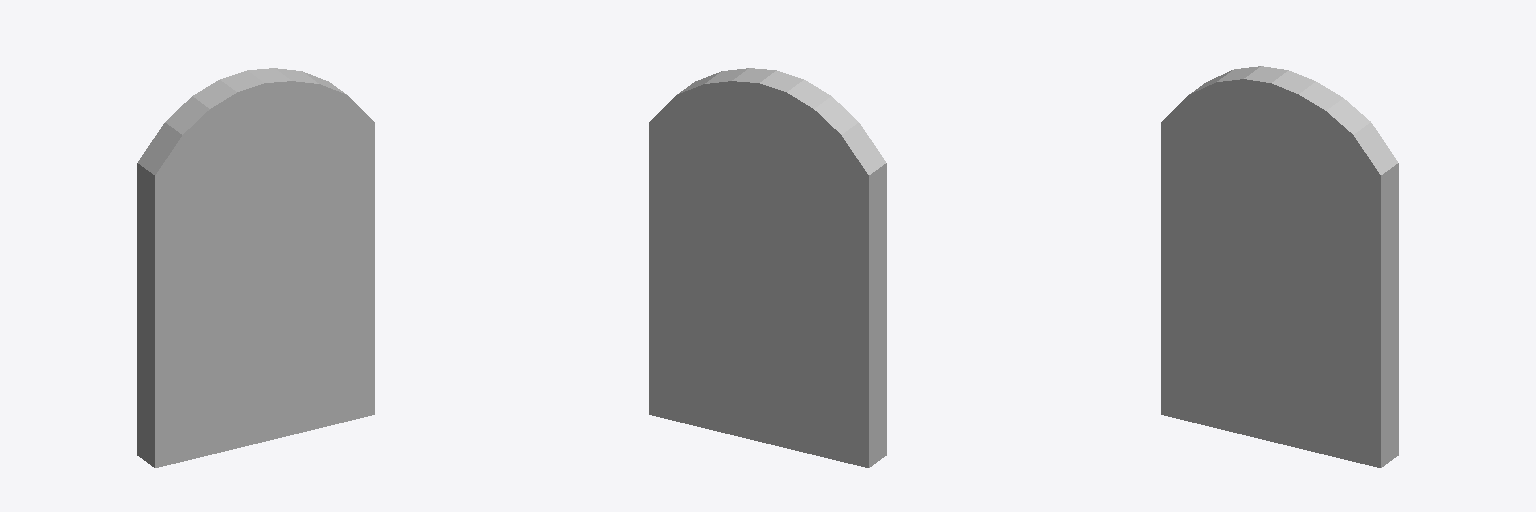
Rendered from tombstone2.obj.
3 renders of one model, left to right at view 1: azimuth 30°, elevation 25°; view 2: azimuth 150°, elevation 25°; view 3: azimuth 330°, elevation 25°, orthographic.
Parts seen in each view (by area): view 1: Cube_Cube.001; view 2: Cube_Cube.001; view 3: Cube_Cube.001.
Part boxes in pixels (x1,y1,x2,y2): Cube_Cube.001: (137,68,374,467); Cube_Cube.001: (649,68,886,467); Cube_Cube.001: (1161,66,1398,467).
Bounding box in the file's own units: 0.6064 × 0.9464 × 0.0849.